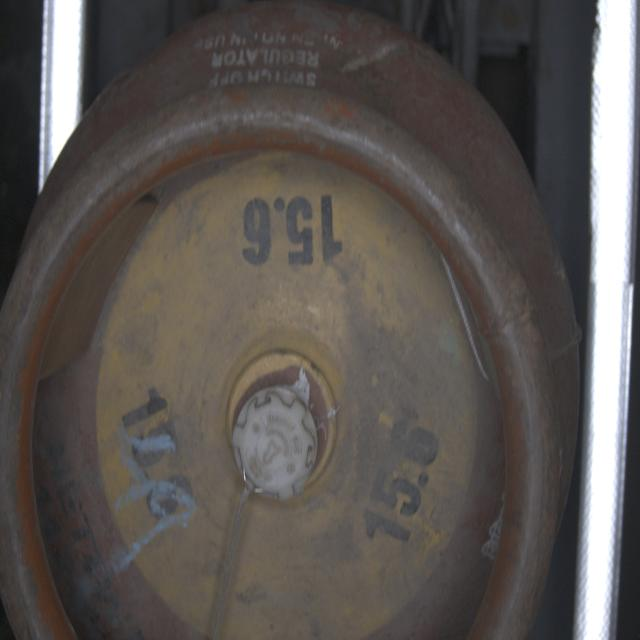Cap: (231, 385, 321, 505)
